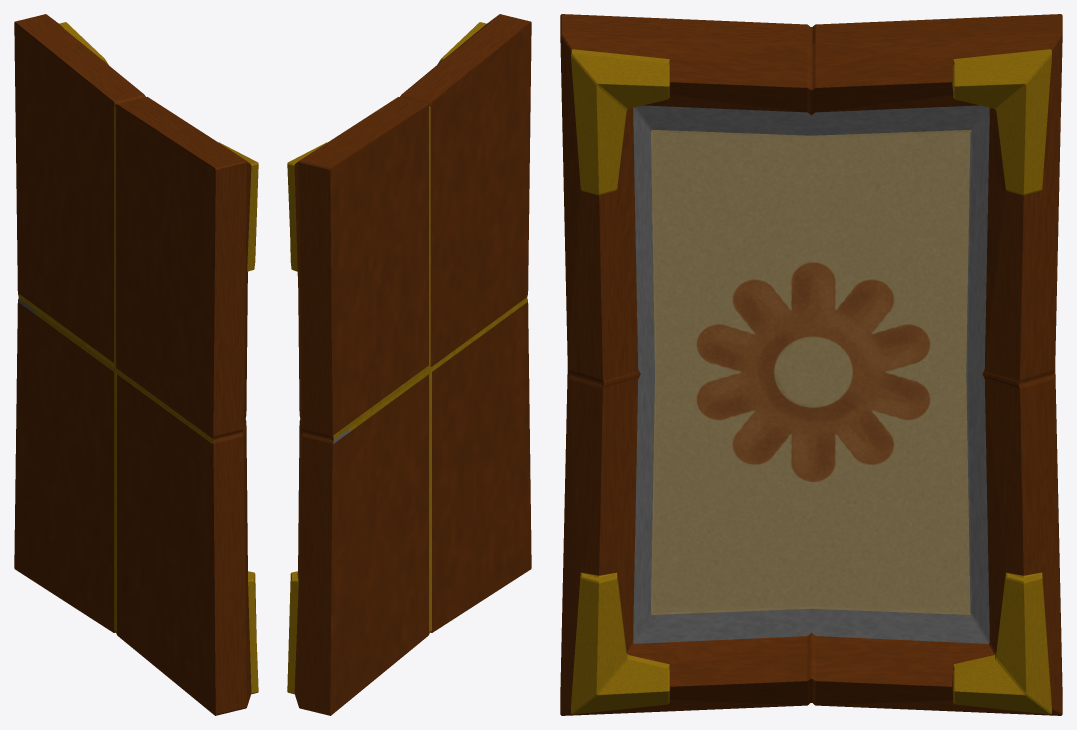
Rendered from PictureFrame1.fbx.
3 views of the same model, side by side, from view 1: azimuth 30°, elevation 25°; view 2: azimuth 150°, elevation 25°; view 3: azimuth 270°, elevation 25° (orthographic). The views are drawn at different scales.
Parts seen in each view (by area): view 1: Cube; view 2: Cube; view 3: Cube.
Boxes of the visible parts, x1,y1,x2,y2 form: Cube: (14, 14, 258, 715); Cube: (287, 14, 531, 715); Cube: (560, 14, 1062, 715).
Size of the model in its own units: 39.99 by 59.99 by 6.42.
